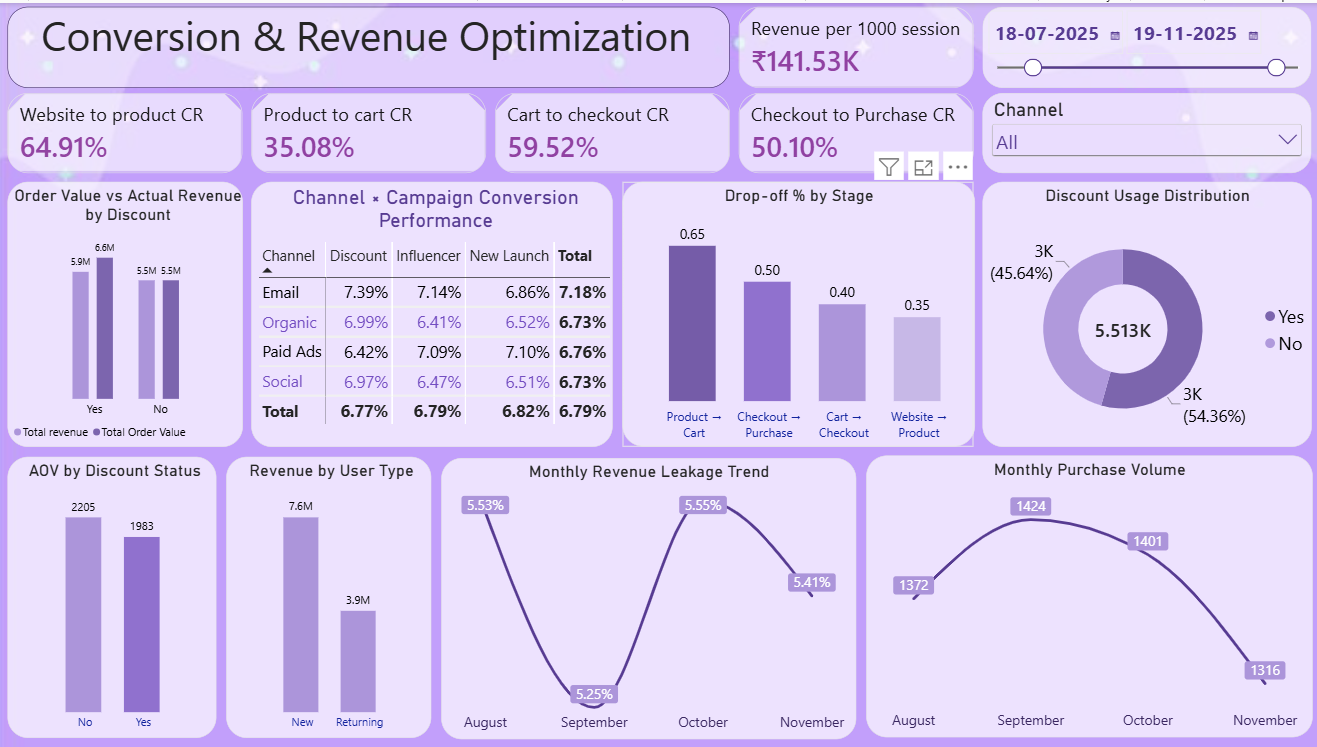

This screenshot's page, from the dashboard's own definition file:
{"tool":"powerbi","page":{"name":"Page 2","canvas":[1920,1080],"ordinal":1},"visuals":[{"type":"cardVisual","fields":{"Data":["cleaned_data.Website to product CR"]},"box":[18.1,130.3,340.2,115.8],"z":0},{"type":"cardVisual","fields":{"Data":["cleaned_data.Product to cart CR"]},"box":[371,130.3,340.2,115.8],"z":1000},{"type":"cardVisual","fields":{"Data":["cleaned_data.Cart to checkout CR"]},"box":[723.9,130.3,340.2,115.8],"z":2000},{"type":"cardVisual","fields":{"Data":["cleaned_data.Checkout to Purchase CR"]},"box":[1076.7,130.3,340.2,115.8],"z":3000},{"type":"cardVisual","fields":{"Data":["cleaned_data.Revenue per 1000 session"]},"box":[1076.7,5,340.2,117.6],"z":4000},{"type":"clusteredColumnChart","title":"Order Value vs Actual Revenue by Discount","fields":{"Category":["cleaned_data.discount_applied"],"Y":["cleaned_data.Total revenue","cleaned_data.Total Order Value"]},"box":[18.6,258.9,340.9,383.7],"z":5000},{"type":"clusteredColumnChart","title":"AOV by Discount Status","fields":{"Category":["cleaned_data.discount_applied"],"Y":["cleaned_data.Average Order Value"]},"box":[18.1,656.9,302.2,407.2],"z":6000},{"type":"clusteredColumnChart","title":"Revenue by User Type","fields":{"Category":["cleaned_data.user_type"],"Y":["cleaned_data.Total revenue"]},"box":[335.3,657.5,296.8,407.2],"z":7000},{"type":"pivotTable","title":"Channel × Campaign Conversion Performance","fields":{"Rows":["cleaned_data.channel"],"Columns":["cleaned_data.campaign_type"],"Values":["cleaned_data.Conversion rate"]},"box":[371,258.8,523,383.6],"z":8000},{"type":"clusteredColumnChart","fields":{"Category":["Funnel Dropoff.Stage"],"Y":["cleaned_data.Drop-off %"]},"box":[907.7,259.6,510,383],"z":9000},{"type":"lineChart","title":"Monthly Revenue Leakage Trend","fields":{"Category":["cleaned_data.month.Variation.Date Hierarchy.Month"],"Y":["cleaned_data.Revenue Leakage %"]},"box":[646.3,659.4,600.8,407.2],"z":10000},{"type":"lineChart","title":"Monthly Purchase Volume","fields":{"Category":["cleaned_data.month.Variation.Date Hierarchy.Month"],"Y":["cleaned_data.Total purchases"]},"box":[1261,655.6,646.3,407.9],"z":11000},{"type":"donutChart","title":"Discount Usage Distribution","fields":{"Category":["cleaned_data.discount_applied"],"Y":["cleaned_data.Total purchases"]},"box":[1430.5,258.9,476.8,383.7],"z":12000},{"type":"slicer","fields":{"Values":["cleaned_data.month"]},"box":[1429.6,5.4,475.9,117.6],"z":13000},{"type":"slicer","fields":{"Values":["cleaned_data.channel"]},"box":[1429.6,130.3,475.9,115.8],"z":14000},{"type":"textbox","box":[18.1,5.4,1046,117.6],"z":15000}]}

Visuals, with their boxes in screenshot pixels (x1, y1, x2, y2), scaled from the page's 1920x1080 canvas onto the 1317x747 screenshot:
cardVisual - cleaned_data.Website to product CR: [12, 90, 246, 170]
cardVisual - cleaned_data.Product to cart CR: [254, 90, 488, 170]
cardVisual - cleaned_data.Cart to checkout CR: [497, 90, 730, 170]
cardVisual - cleaned_data.Checkout to Purchase CR: [739, 90, 972, 170]
cardVisual - cleaned_data.Revenue per 1000 session: [739, 3, 972, 85]
"Order Value vs Actual Revenue by Discount" clusteredColumnChart: [13, 179, 247, 444]
"AOV by Discount Status" clusteredColumnChart: [12, 454, 220, 736]
"Revenue by User Type" clusteredColumnChart: [230, 455, 434, 736]
"Channel × Campaign Conversion Performance" pivotTable: [254, 179, 613, 444]
clusteredColumnChart - Funnel Dropoff.Stage x cleaned_data.Drop-off %: [623, 180, 972, 444]
"Monthly Revenue Leakage Trend" lineChart: [443, 456, 855, 738]
"Monthly Purchase Volume" lineChart: [865, 453, 1308, 736]
"Discount Usage Distribution" donutChart: [981, 179, 1308, 444]
slicer - cleaned_data.month: [981, 4, 1307, 85]
slicer - cleaned_data.channel: [981, 90, 1307, 170]
textbox: [12, 4, 730, 85]
